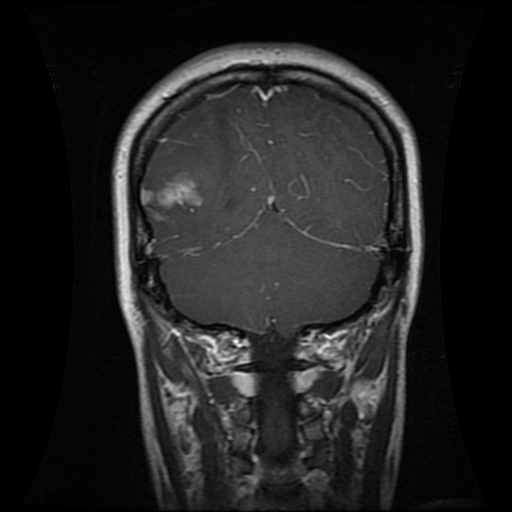glioma: (143, 168, 206, 222)
